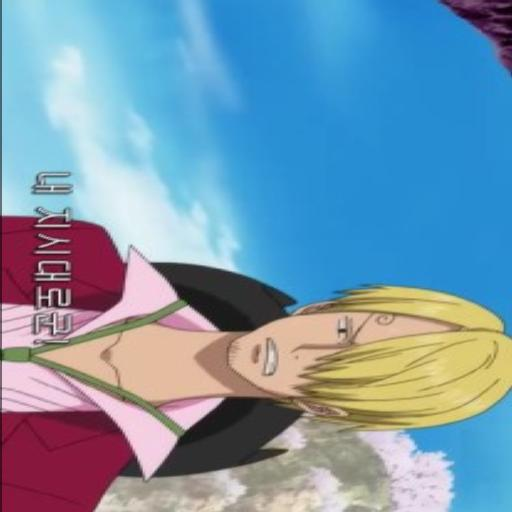sanji: (224, 281, 512, 433)
